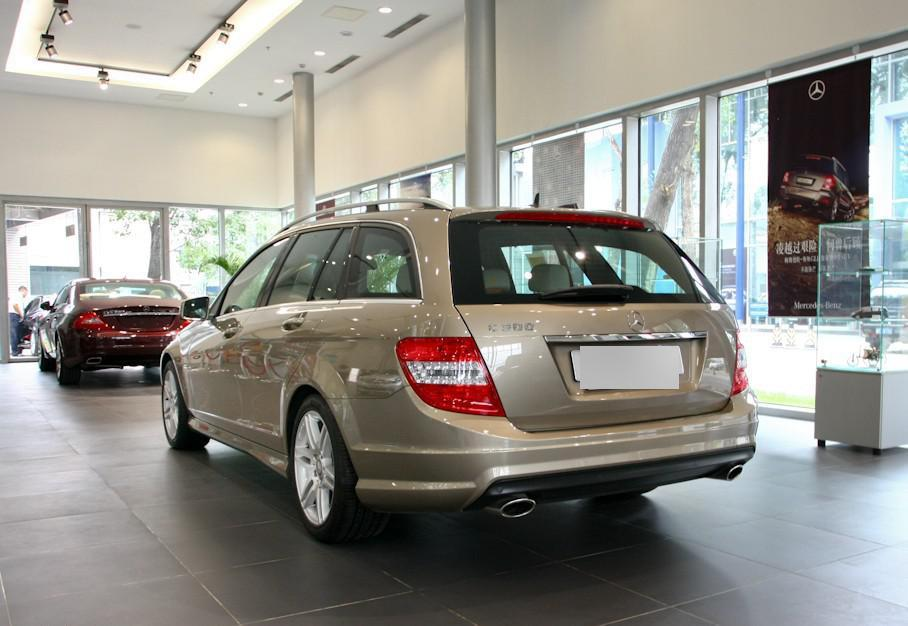Wagon: (159, 207, 758, 546)
